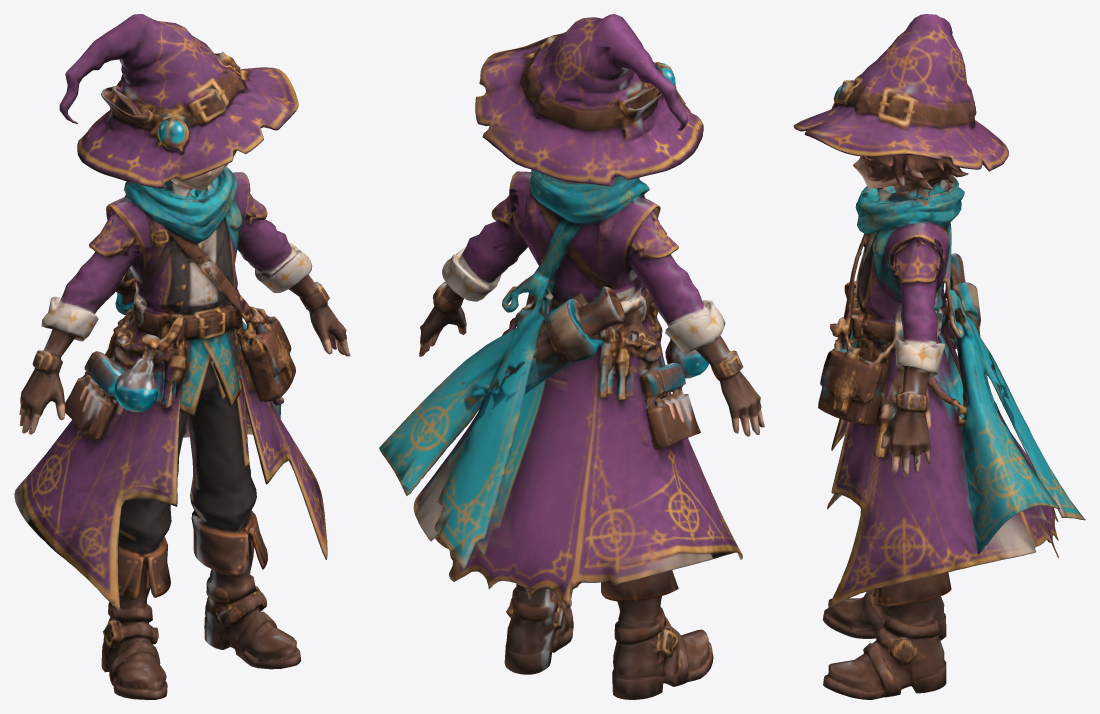
File: heros_b_etude.glb
3 renders of one model, left to right at view 1: azimuth 30°, elevation 25°; view 2: azimuth 150°, elevation 25°; view 3: azimuth 270°, elevation 25°, orthographic. The views are drawn at different scales.
Visible parts, largest first — view 1: Heros_B_etude; view 2: Heros_B_etude; view 3: Heros_B_etude.
Boxes of the visible parts, box(x1,y1,x2,y2) form: Heros_B_etude: box(14, 14, 350, 699); Heros_B_etude: box(379, 14, 764, 699); Heros_B_etude: box(793, 14, 1085, 699).
Bounding box in the file's own units: 0.9467 × 1.8 × 0.7568.
Materials: 1 (1 with a texture image).
